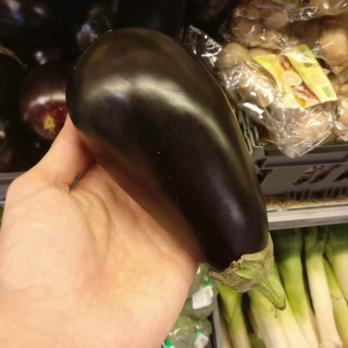Brinjal: (63, 28, 283, 305)
